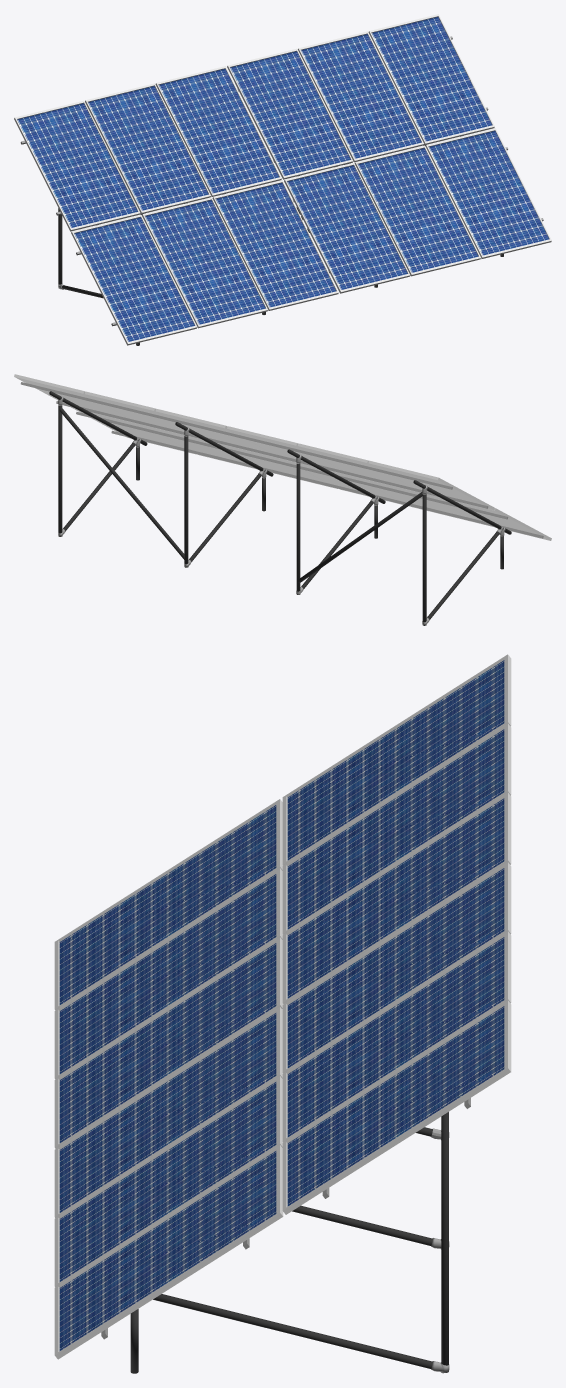
The model's file is PV_portrait_02.glb.
3 renders of one model, top to bottom at view 1: azimuth 30°, elevation 25°; view 2: azimuth 150°, elevation 25°; view 3: azimuth 270°, elevation 25°, orthographic. The views are drawn at different scales.
Visible parts, largest first — view 1: pv.011, pv.006, pv, pv.001, pv.002, pv.005, pv.004, pv.010, pv.008, pv.003, pv.009, pv.007; view 2: Cube.003, Cube.001, Cube.002, Cube, pv.011, pv.010, pv, pv.001, pv.002, pv.009, pv.006, pv.005 (+18 smaller); view 3: pv.002, pv.003, pv.009, pv.008, pv, pv.011, pv.001, pv.010, pv.007, pv.004, pv.006, pv.005 (+3 smaller).
Boxes of the visible parts, box(x1,y1,x2,y2) form: pv.011: box(14, 100, 140, 231); pv.006: box(71, 214, 197, 345); pv: box(227, 48, 353, 179); pv.001: box(298, 31, 423, 162); pv.002: box(368, 14, 494, 144); pv.005: box(284, 162, 410, 293); pv.004: box(354, 145, 480, 276); pv.010: box(85, 83, 210, 214); pv.008: box(212, 180, 338, 310); pv.003: box(425, 128, 551, 258); pv.009: box(155, 66, 281, 196); pv.007: box(142, 197, 267, 328); Cube.003: box(20, 382, 452, 489); Cube.001: box(76, 412, 508, 519); Cube.002: box(111, 430, 543, 538); Cube: box(56, 401, 488, 508); pv.011: box(368, 460, 494, 510); pv.010: box(297, 443, 414, 488); pv: box(155, 408, 272, 453); pv.001: box(85, 391, 190, 433); pv.002: box(14, 374, 130, 418); pv.009: box(227, 426, 343, 470); pv.006: box(426, 494, 551, 540); pv.005: box(216, 442, 337, 488); pv.002: box(282, 1000, 511, 1214); pv.003: box(54, 1145, 283, 1359); pv.009: box(282, 792, 511, 1003); pv.008: box(54, 937, 283, 1148); pv: box(282, 862, 511, 1073); pv.011: box(282, 654, 511, 865); pv.001: box(282, 931, 511, 1142); pv.010: box(282, 723, 511, 934); pv.007: box(54, 868, 282, 1079); pv.004: box(54, 1076, 282, 1286); pv.006: box(54, 799, 282, 1010); pv.005: box(54, 1007, 282, 1217).
Bounding box in the file's own units: 6.15 × 2.27 × 2.82.
Materials: 31 (12 with a texture image).
